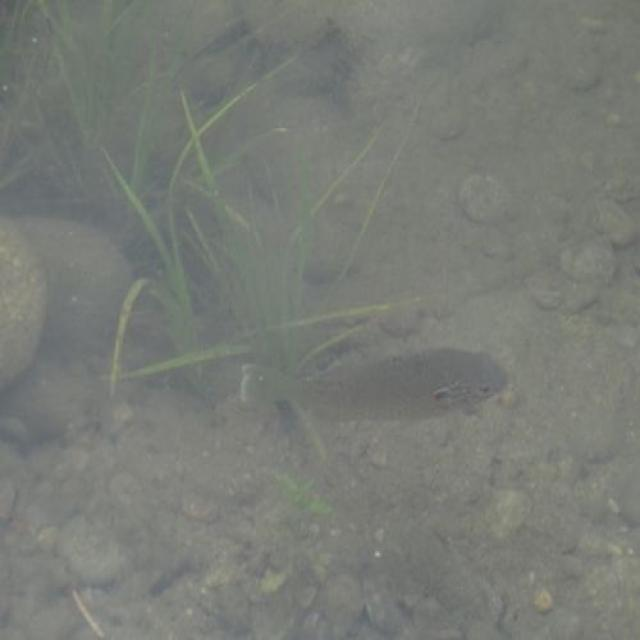Gunes Levregi: (238, 335, 522, 437)
